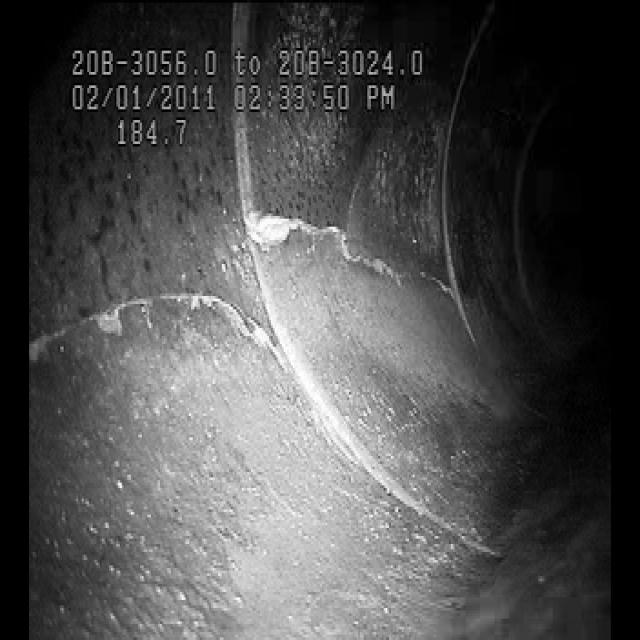Crack: (26, 200, 458, 378)
